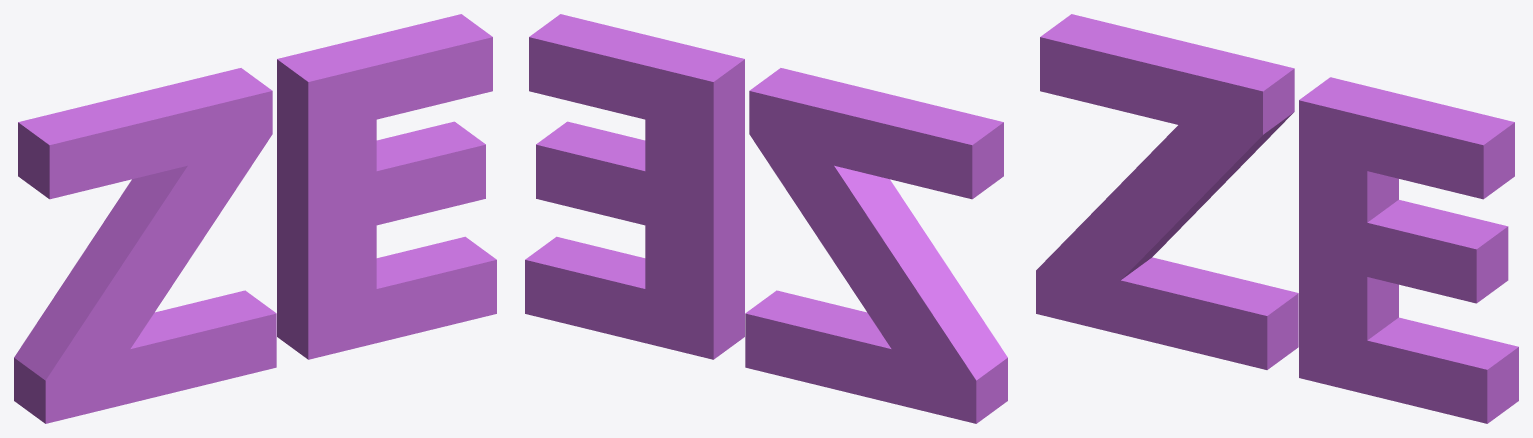
The model's file is suku_besar_ze.glb.
3 views of the same model, side by side, from view 1: azimuth 30°, elevation 25°; view 2: azimuth 150°, elevation 25°; view 3: azimuth 330°, elevation 25° (orthographic).
Visible parts, largest first — view 1: geometry_0; view 2: geometry_0; view 3: geometry_0.
Part boxes in pixels (x1,y1,x2,y2): geometry_0: (14,14,496,423); geometry_0: (525,14,1007,423); geometry_0: (1036,14,1518,423).
Bounding box in the file's own units: 12.4 × 7.29 × 1.5.
